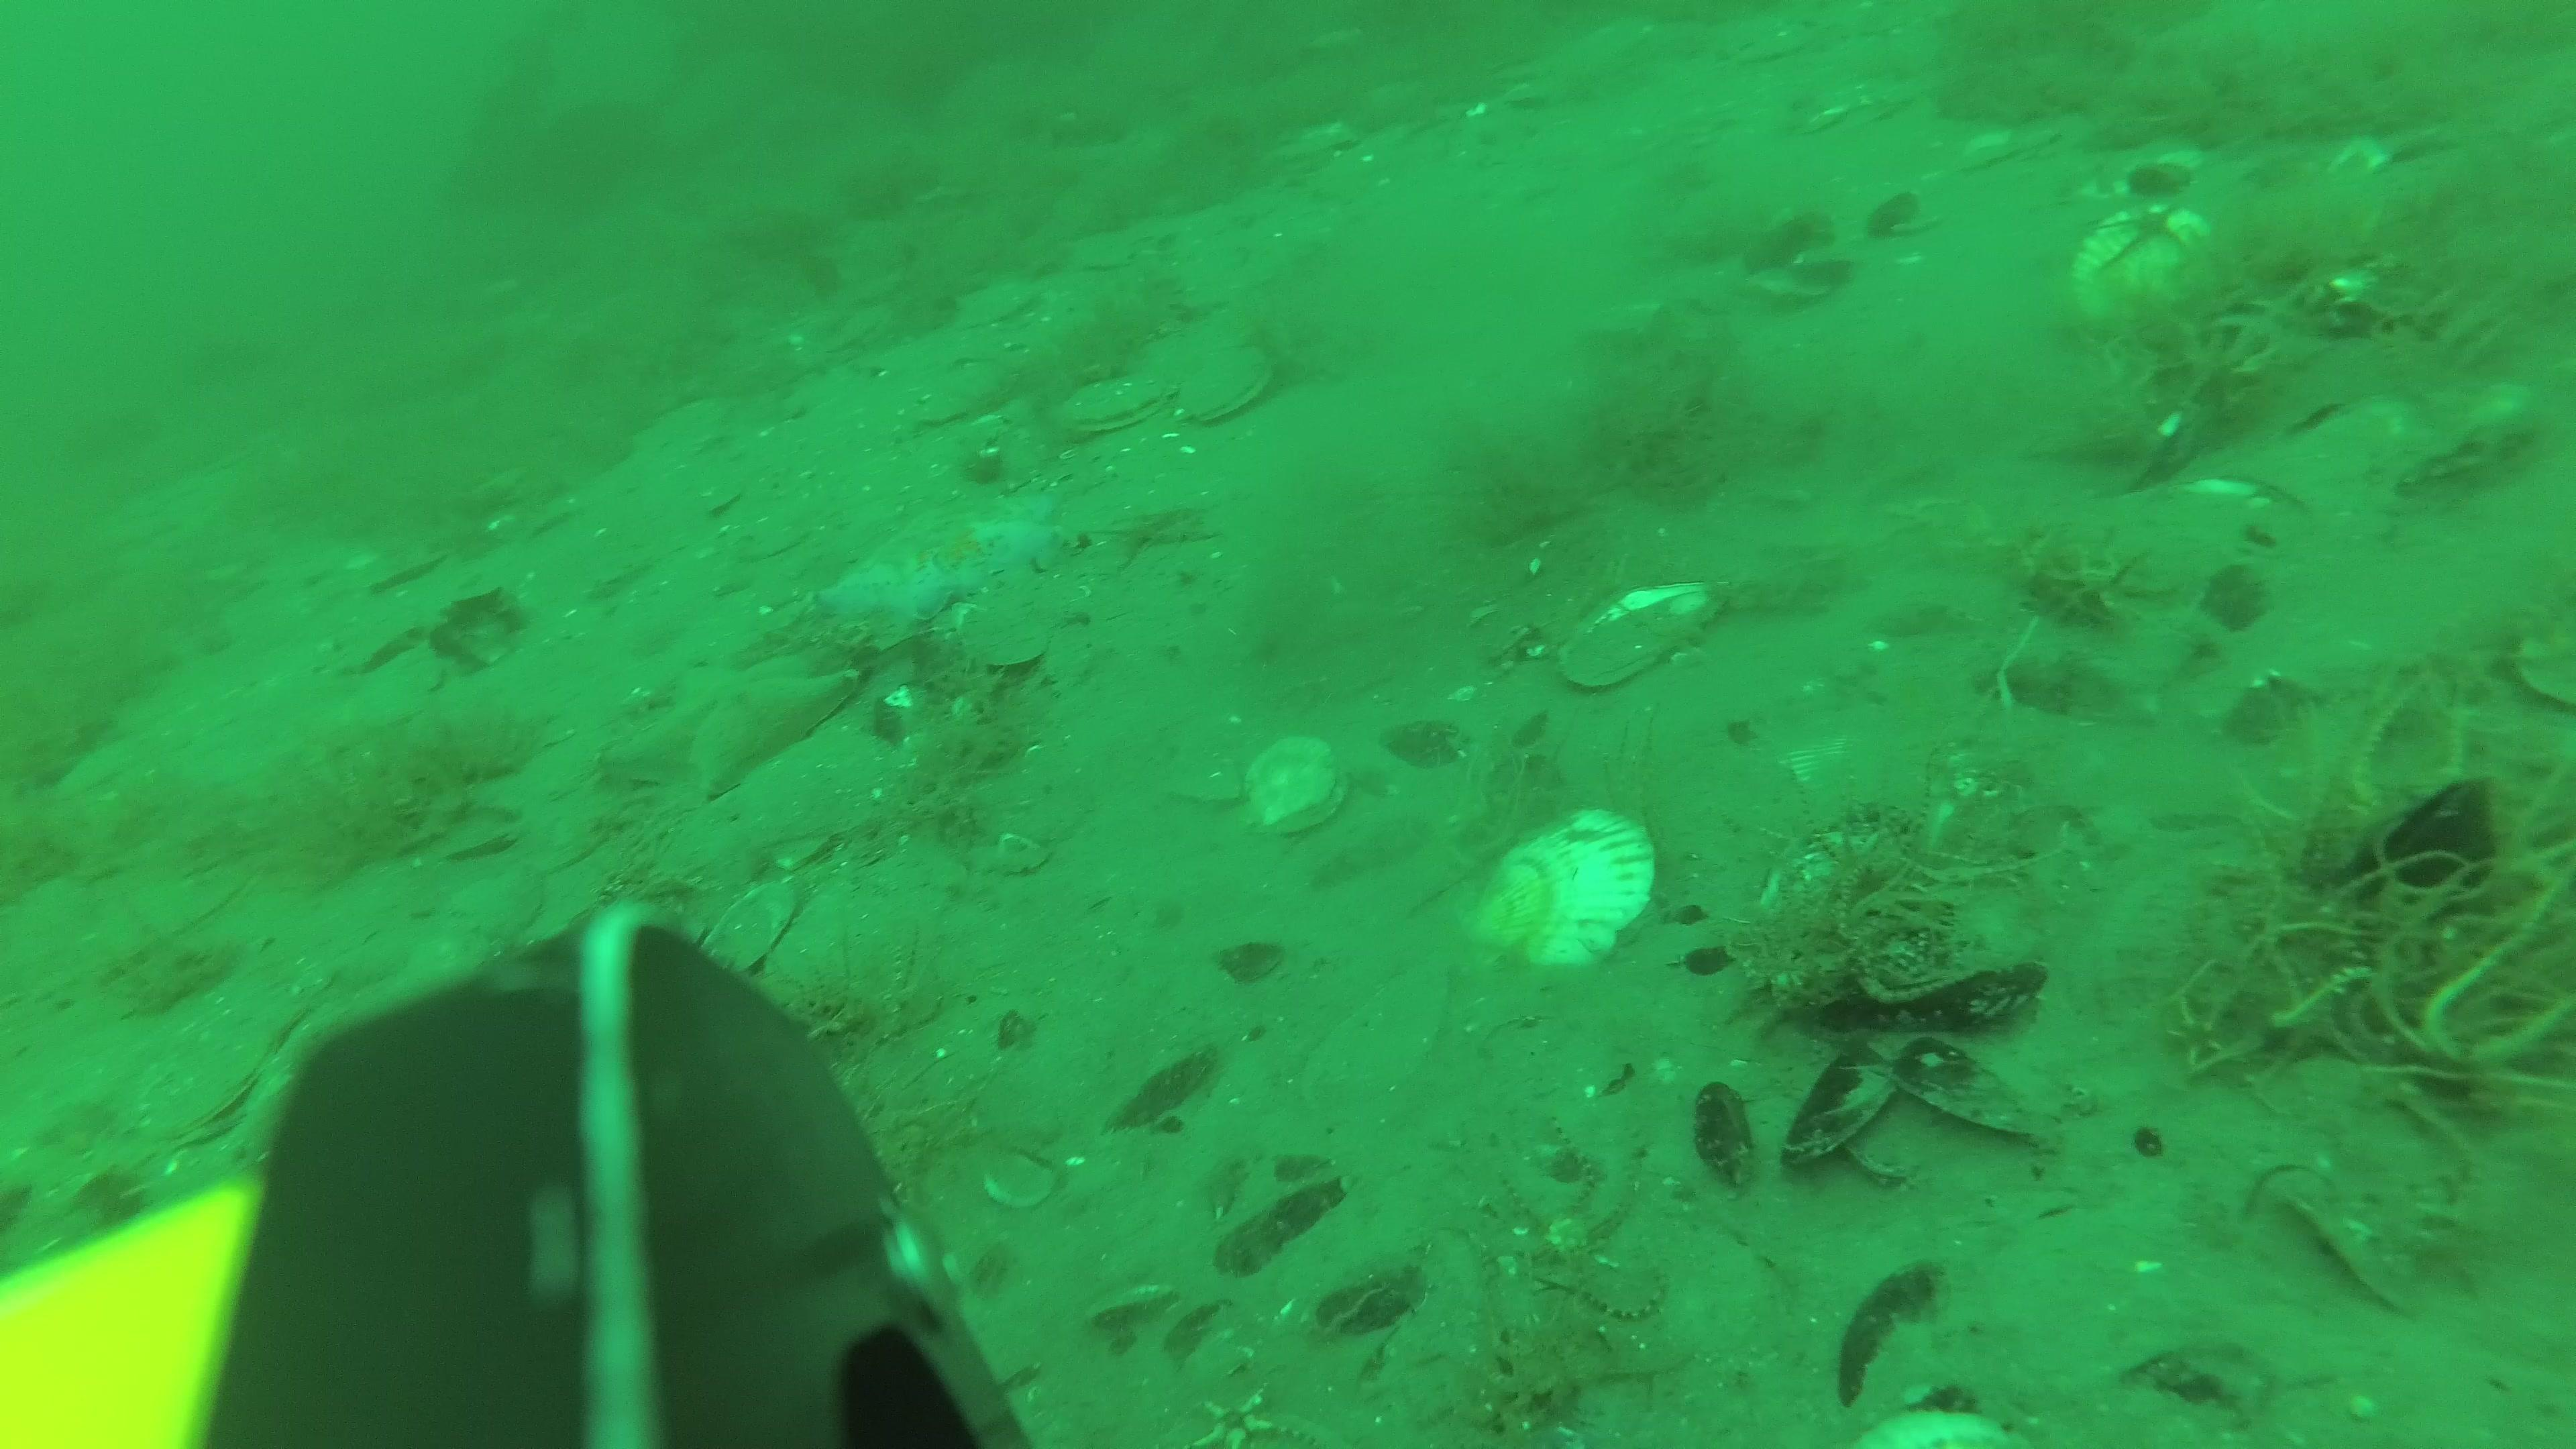scallop: (1453, 805, 1661, 971), (1545, 582, 1727, 686), (2074, 200, 2224, 322), (1244, 734, 1341, 830), (1191, 343, 1283, 428), (1053, 368, 1173, 428)
starfish: (596, 639, 863, 800), (816, 476, 1092, 616)
